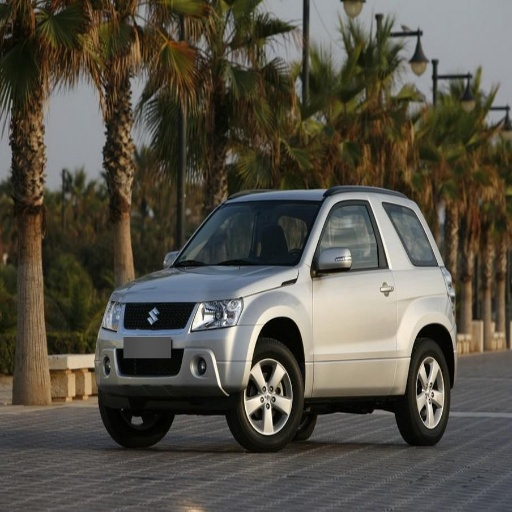back_left_door: (373, 195, 436, 384)
front_bumper: (97, 298, 260, 400)
front_glass: (173, 203, 322, 266)
front_left_door: (313, 197, 394, 386)
